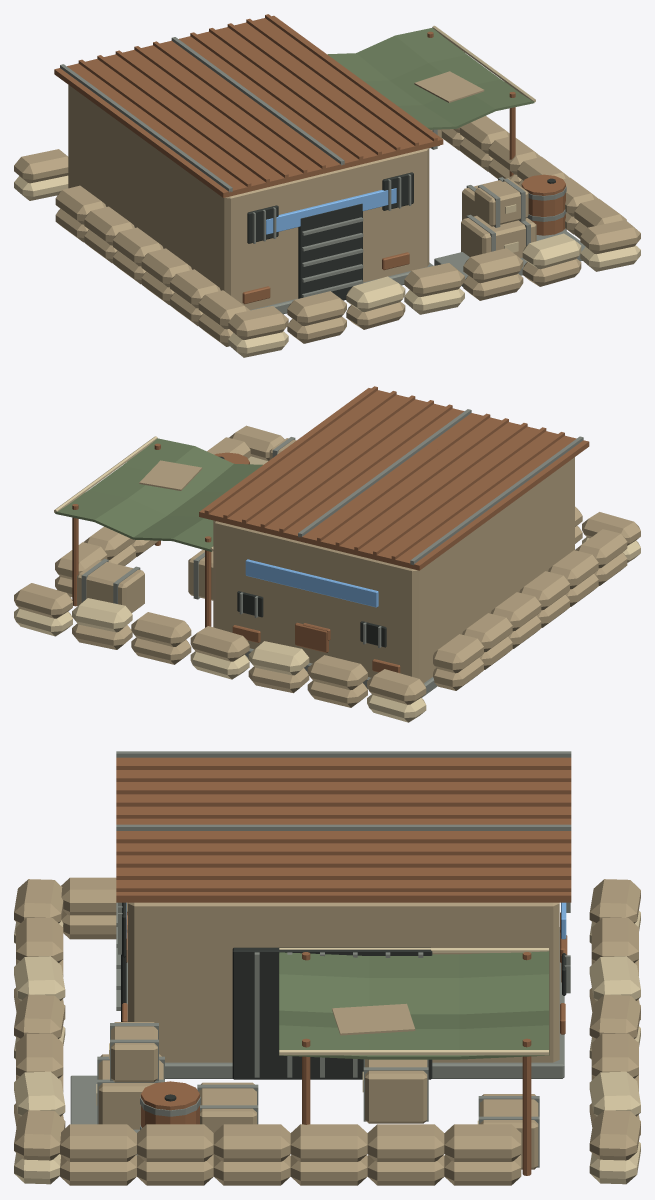
Rendered from supply_stash.glb.
3 views of the same model, one above another, from view 1: azimuth 30°, elevation 25°; view 2: azimuth 150°, elevation 25°; view 3: azimuth 270°, elevation 25° (orthographic). The views are drawn at different scales.
Parts seen in each view (by area): view 1: supply_stash; view 2: supply_stash; view 3: supply_stash.
Boxes of the visible parts, x1,y1,x2,y2 form: supply_stash: (14, 14, 640, 357); supply_stash: (14, 386, 640, 722); supply_stash: (14, 751, 640, 1185).
Size of the model in its own units: 3.83 by 1.28 by 3.8.
